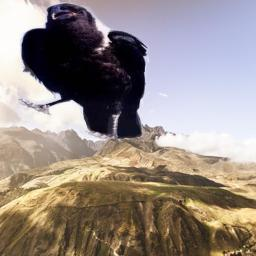Crow: (18, 2, 149, 142)
